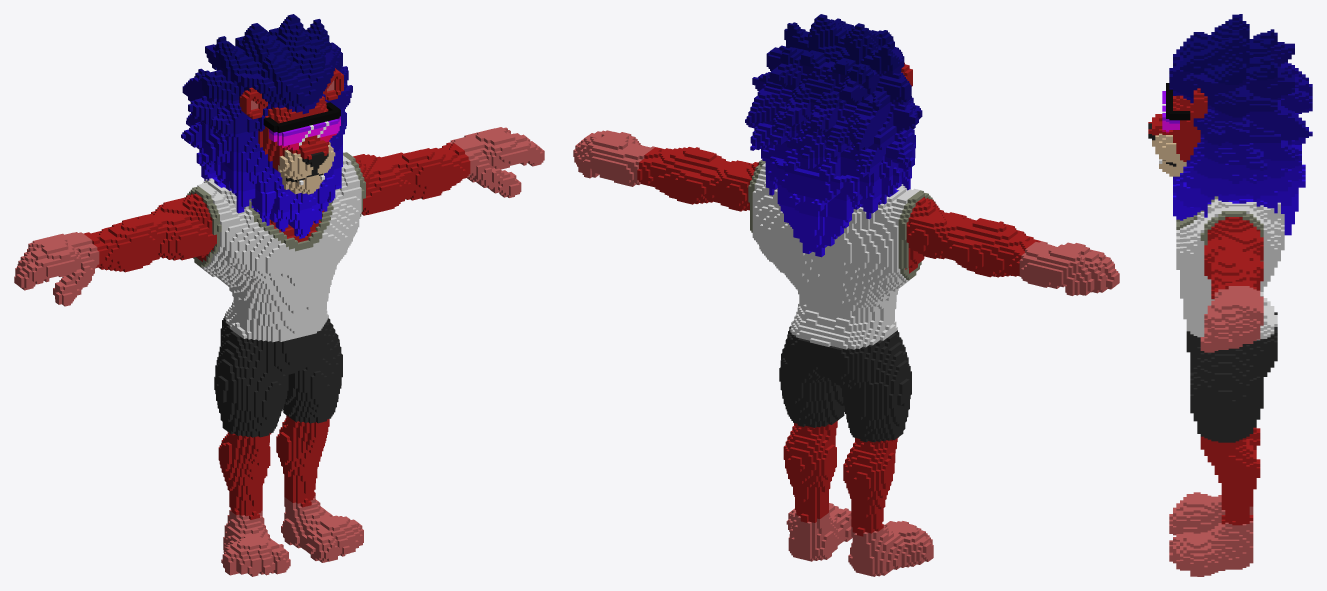
The model's file is 1045-B9ETIAQ1.glb.
3 renders of one model, left to right at view 1: azimuth 30°, elevation 25°; view 2: azimuth 150°, elevation 25°; view 3: azimuth 270°, elevation 25°, orthographic. The views are drawn at different scales.
Parts seen in each view (by area): view 1: standard; view 2: standard; view 3: standard.
Boxes of the visible parts, x1,y1,x2,y2 form: standard: [14, 14, 544, 576]; standard: [573, 14, 1119, 576]; standard: [1148, 14, 1312, 576].
Size of the model in its own units: 17.2 by 16.5 by 4.7.
Materials: 5 (5 with a texture image).
